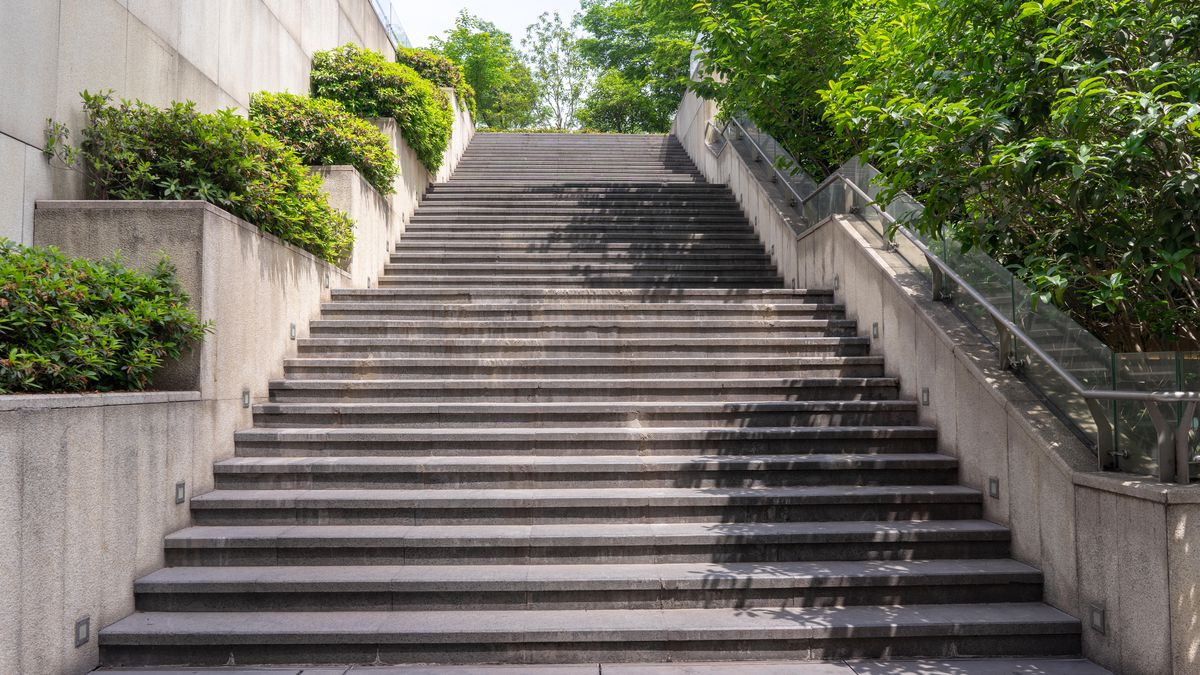upstairs: (239, 416, 940, 671)
